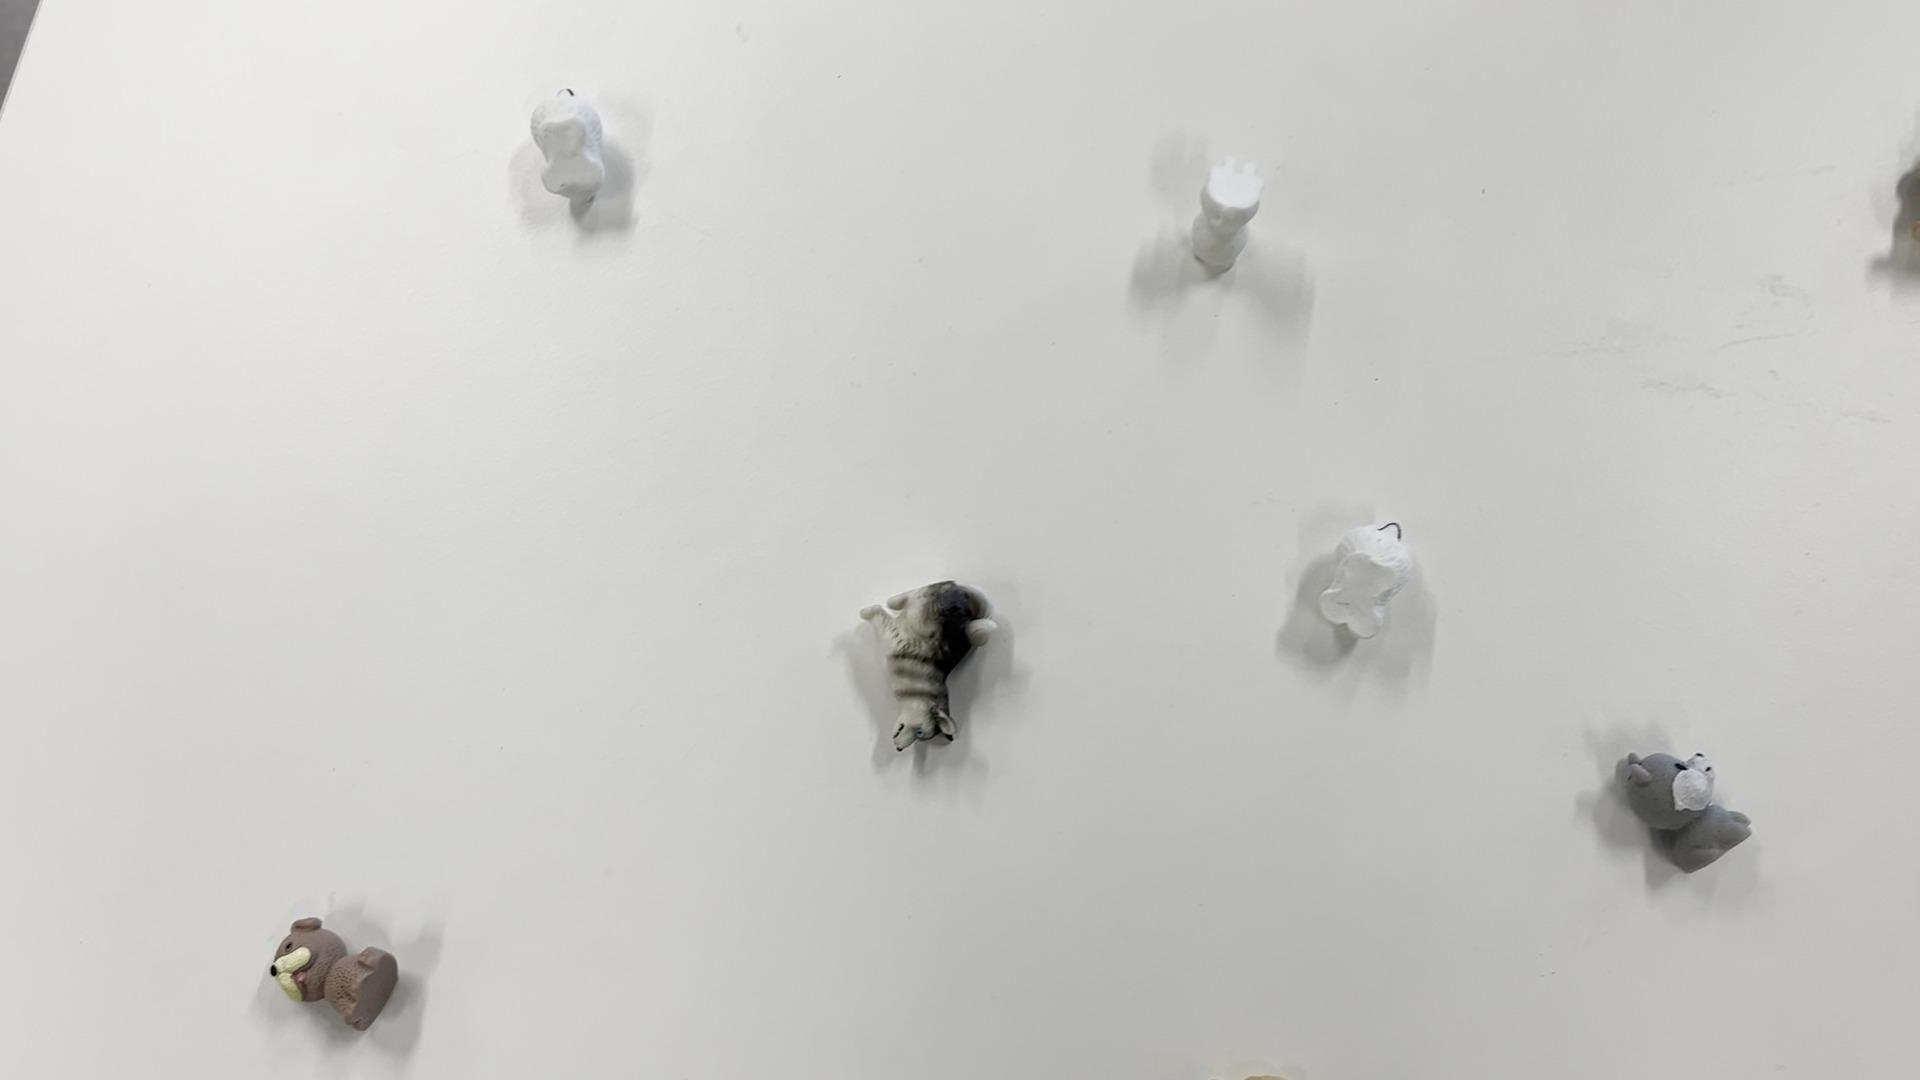pet: (844, 566, 1011, 753), (1601, 732, 1751, 906), (261, 902, 411, 1065), (518, 86, 634, 244), (1308, 509, 1410, 666), (1184, 158, 1274, 290)
